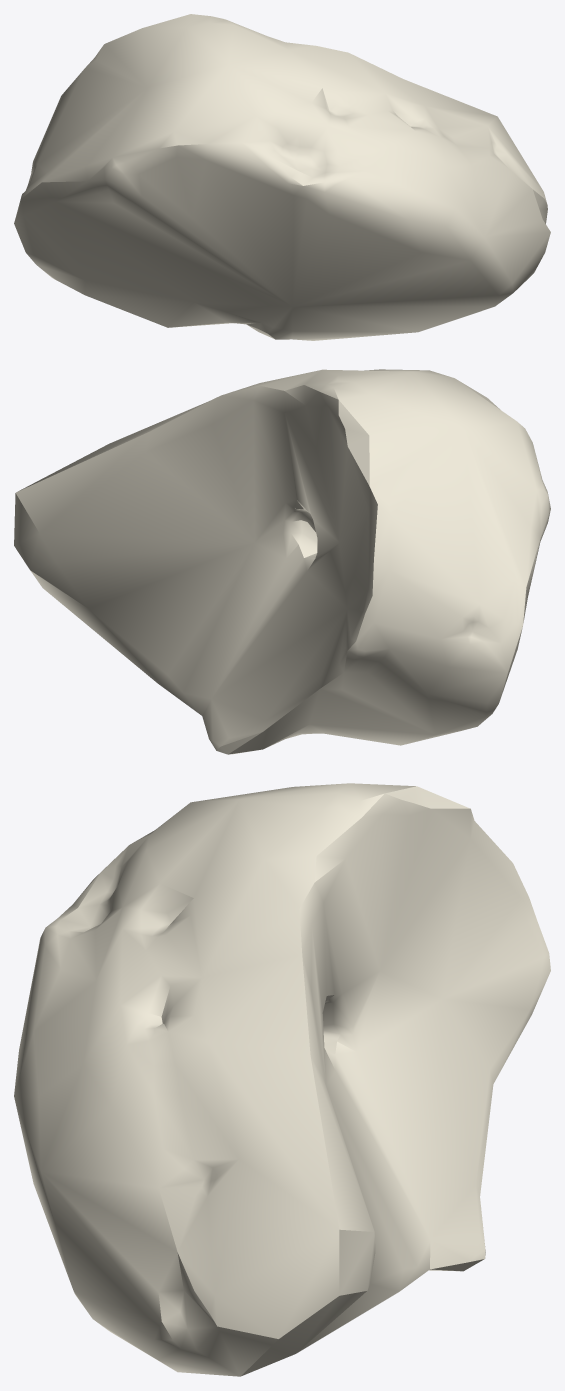
File: fma24500_fj3308.glb
3 renders of one model, top to bottom at view 1: azimuth 30°, elevation 25°; view 2: azimuth 150°, elevation 25°; view 3: azimuth 270°, elevation 25°, orthographic. The views are drawn at different scales.
Visible parts, largest first — view 1: FMA24500_FJ3308; view 2: FMA24500_FJ3308; view 3: FMA24500_FJ3308.
Part boxes in pixels (bbox=[...]): FMA24500_FJ3308: bbox=[14, 14, 550, 340]; FMA24500_FJ3308: bbox=[14, 369, 550, 754]; FMA24500_FJ3308: bbox=[14, 783, 550, 1376].
Size of the model in its own units: 0.0386 by 0.0246 by 0.0267.
